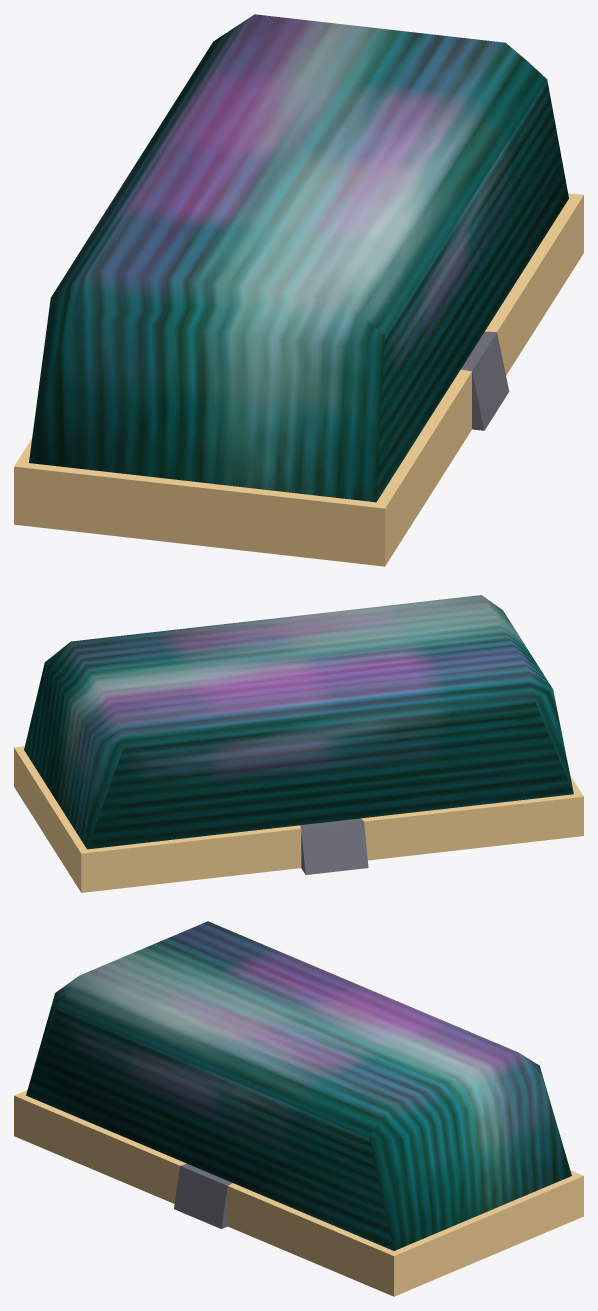
The picture shows the model from 3 angles, top to bottom: view 1: azimuth 30°, elevation 25°; view 2: azimuth 150°, elevation 25°; view 3: azimuth 270°, elevation 25°; orthographic projection. The views are drawn at different scales.
Visible parts, largest first — view 1: Joint_0_Object_2, Joint_0_Object_0, Joint_0_Object_1; view 2: Joint_0_Object_2, Joint_0_Object_0, Joint_0_Object_1; view 3: Joint_0_Object_2, Joint_0_Object_0, Joint_0_Object_1.
Part boxes in pixels (x1,y1,x2,y2): Joint_0_Object_2: [29, 14, 568, 502]; Joint_0_Object_0: [14, 193, 583, 566]; Joint_0_Object_1: [461, 331, 509, 430]; Joint_0_Object_2: [24, 595, 573, 849]; Joint_0_Object_0: [14, 746, 583, 892]; Joint_0_Object_1: [300, 818, 368, 874]; Joint_0_Object_2: [26, 921, 571, 1250]; Joint_0_Object_0: [14, 1090, 583, 1296]; Joint_0_Object_1: [174, 1163, 232, 1228].
Bounding box in the file's own units: 366 × 115 × 366.
Materials: 3 (1 with a texture image).
